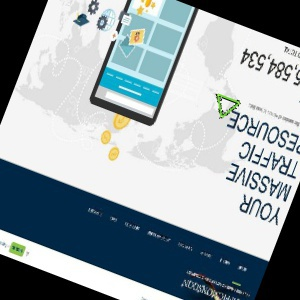triangle: (214, 91, 242, 122)
